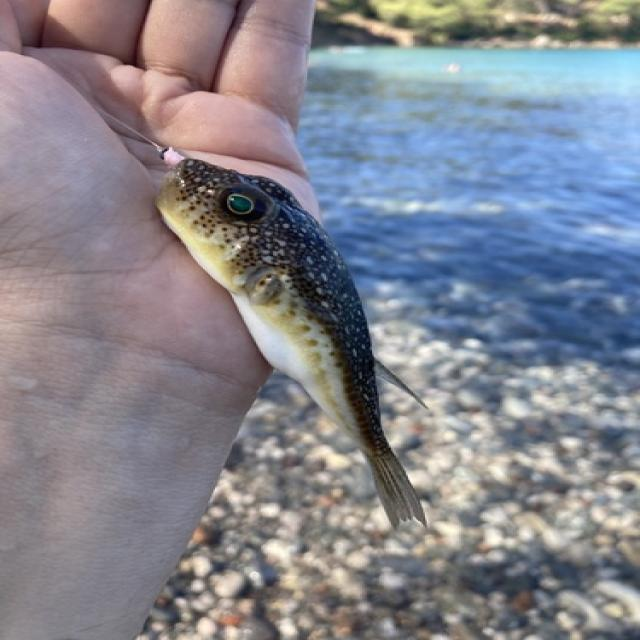Balik: (158, 159, 426, 526)
